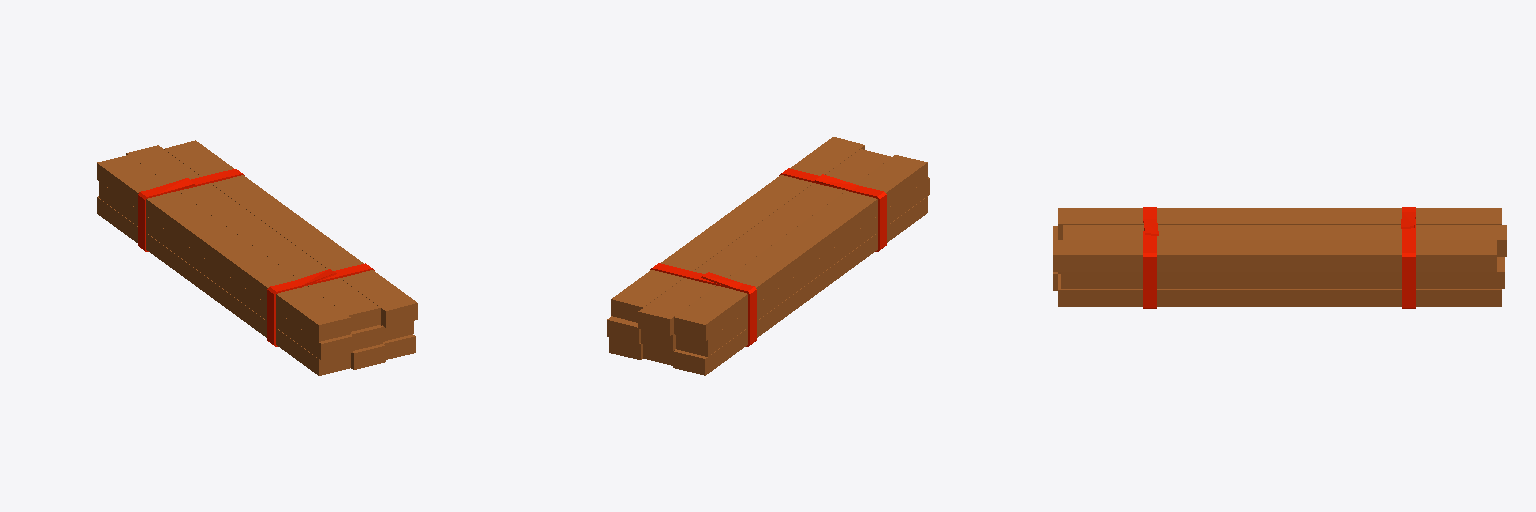
Rendered from lumber_stack.obj.
The picture shows the model from 3 angles: view 1: azimuth 30°, elevation 25°; view 2: azimuth 150°, elevation 25°; view 3: azimuth 270°, elevation 25°; orthographic projection.
Parts seen in each view (by area): view 1: lumber_stack_Cube.262; view 2: lumber_stack_Cube.262; view 3: lumber_stack_Cube.262.
Boxes of the visible parts, box(x1,y1,x2,y2) form: lumber_stack_Cube.262: box(97, 140, 417, 375); lumber_stack_Cube.262: box(607, 137, 929, 375); lumber_stack_Cube.262: box(1053, 207, 1506, 308).
Bounding box in the file's own units: 0.6263 × 0.3527 × 2.46.